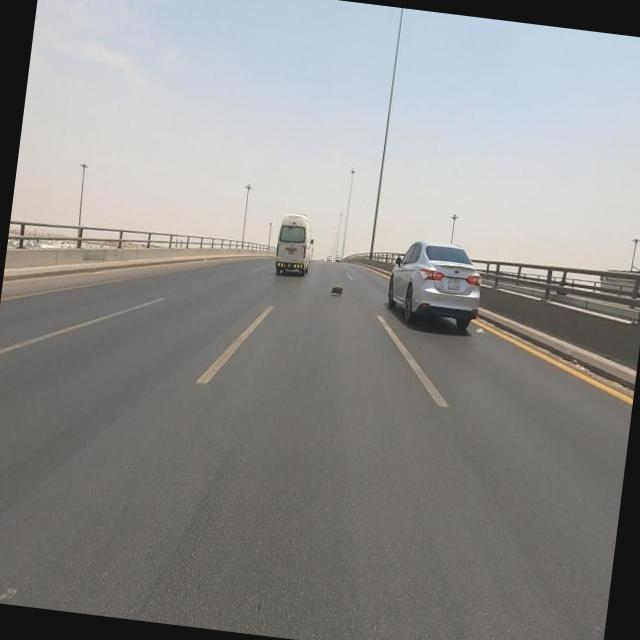debris: (304, 230, 375, 346), (454, 298, 506, 370)
